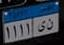1: (26, 23, 31, 35), (13, 25, 18, 37), (20, 23, 24, 37), (6, 26, 10, 39)
ن: (46, 18, 54, 31)
ي: (37, 20, 45, 34)
